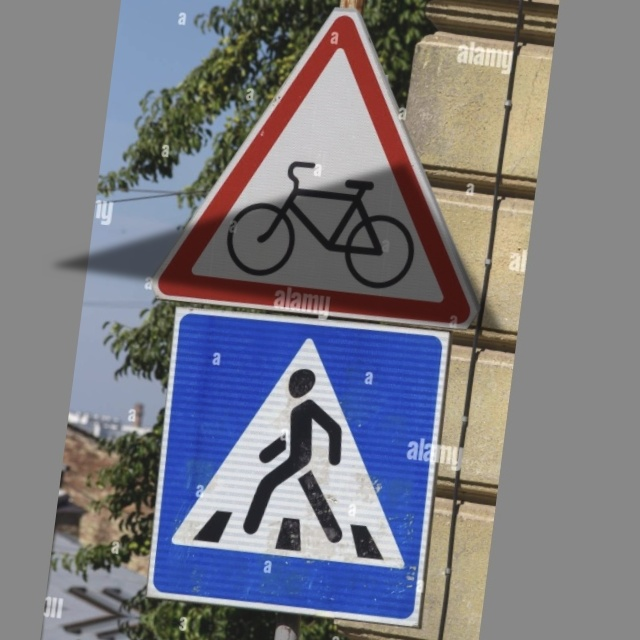Cycle_Crossing: (177, 4, 502, 327)
